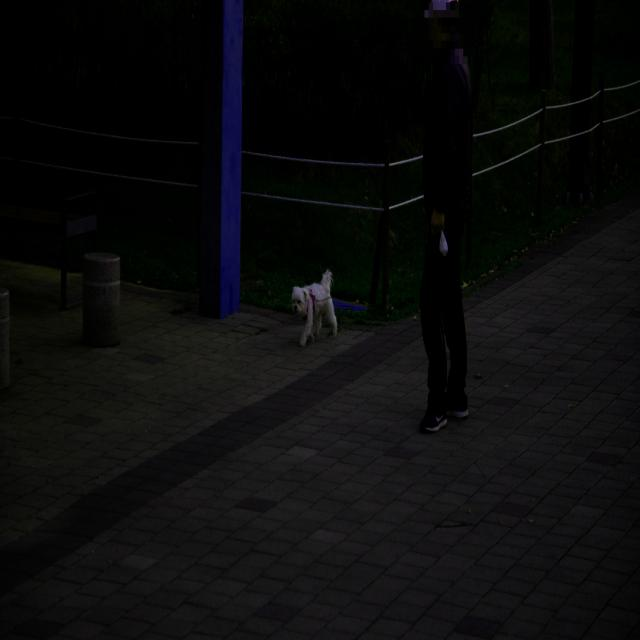Leashed_Dog: (292, 235, 446, 348)
